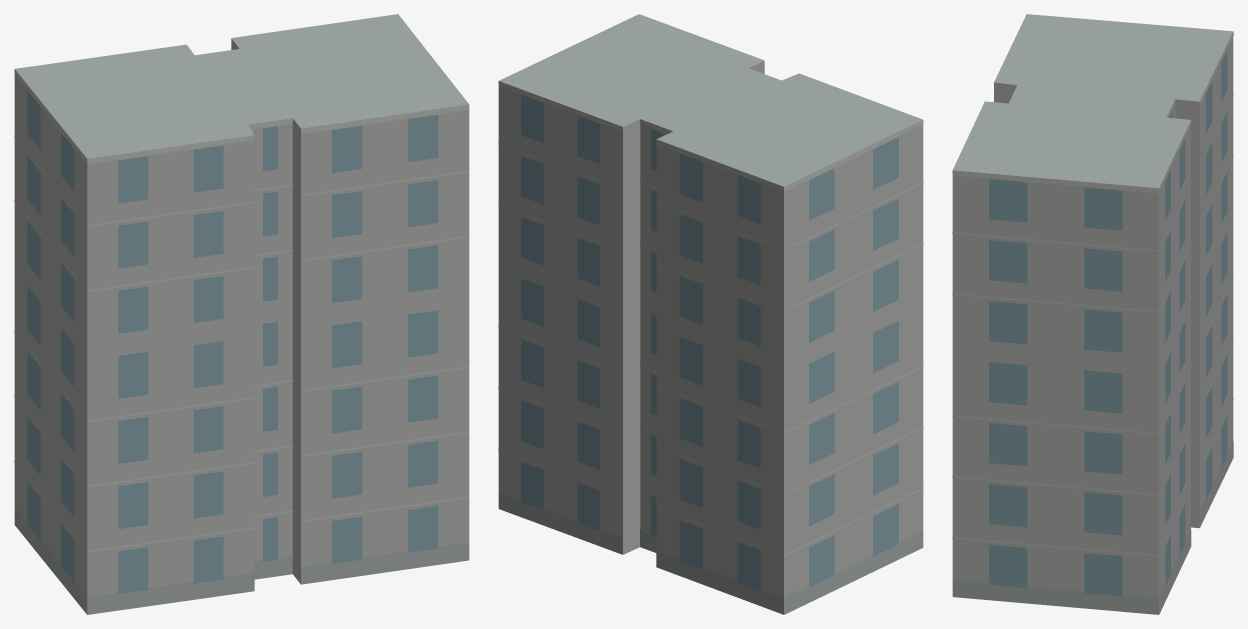
Rendered from survey-upis-33016326.glb.
3 renders of one model, left to right at view 1: azimuth 30°, elevation 25°; view 2: azimuth 150°, elevation 25°; view 3: azimuth 270°, elevation 25°, orthographic. The views are drawn at different scales.
Parts seen in each view (by area): view 1: survey-upis-33016326.tmp; view 2: survey-upis-33016326.tmp; view 3: survey-upis-33016326.tmp.
Part boxes in pixels (x1,y1,x2,y2): survey-upis-33016326.tmp: (14, 14, 469, 614); survey-upis-33016326.tmp: (498, 14, 923, 614); survey-upis-33016326.tmp: (952, 14, 1233, 614).
Bounding box in the file's own units: 17.9 × 20.4 × 12.2.
